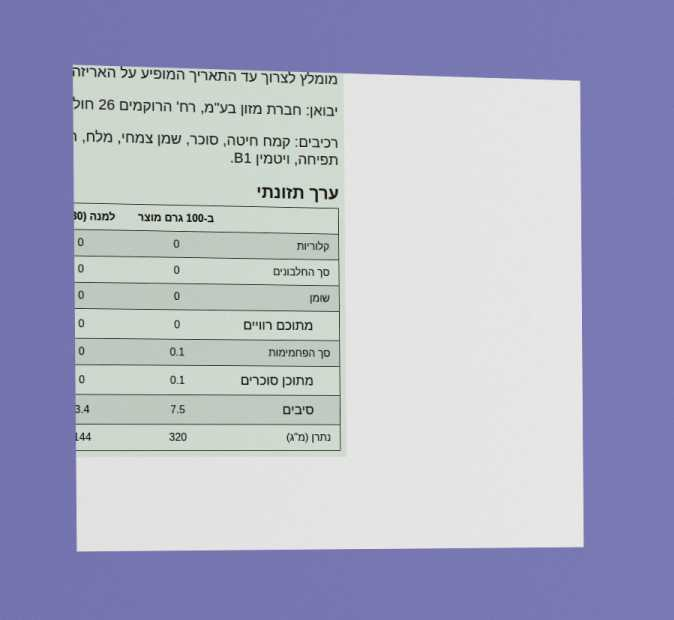carbs: (168, 345, 186, 359)
energy: (172, 237, 181, 251)
fat: (172, 289, 181, 303)
protein: (172, 263, 181, 277)
